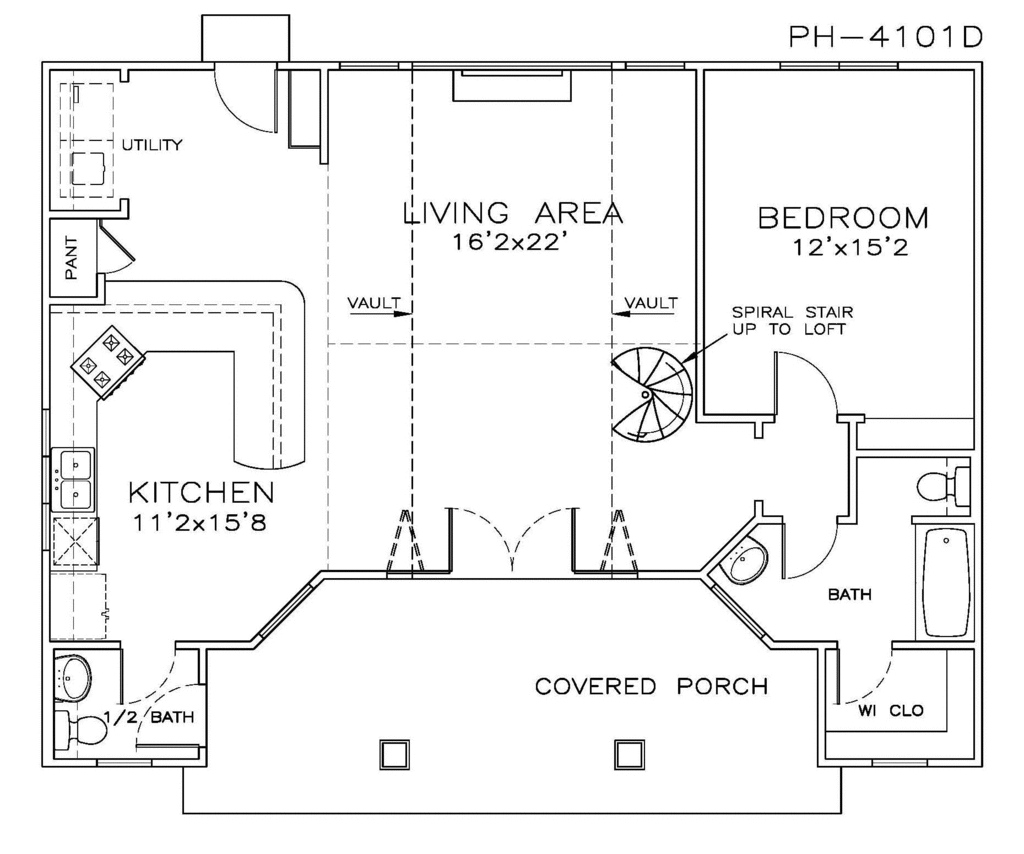door: (442, 506, 578, 576), (206, 63, 284, 140), (770, 348, 837, 422), (777, 513, 840, 583), (832, 640, 892, 708), (115, 641, 177, 704), (97, 228, 139, 271)
large_sink: (912, 460, 967, 512), (51, 706, 108, 755)
small_sink: (715, 535, 771, 591), (54, 648, 93, 703)
stairs: (612, 343, 697, 447)
tub: (915, 522, 976, 639)
twin_sink: (52, 445, 97, 516)
windows: (773, 57, 904, 76)
